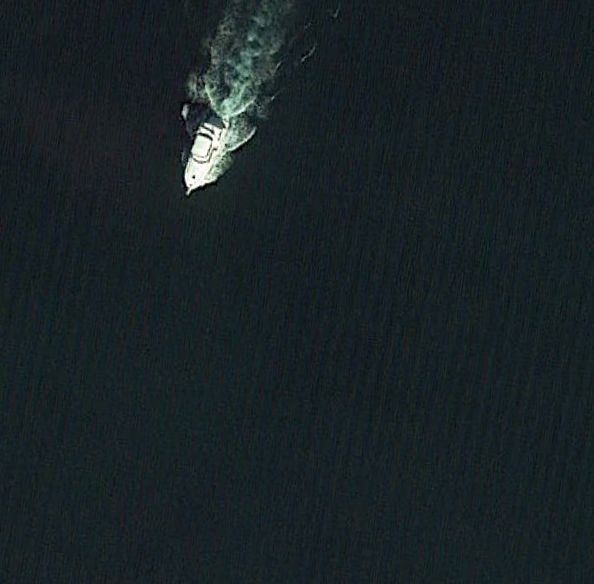boat: (181, 112, 233, 197)
